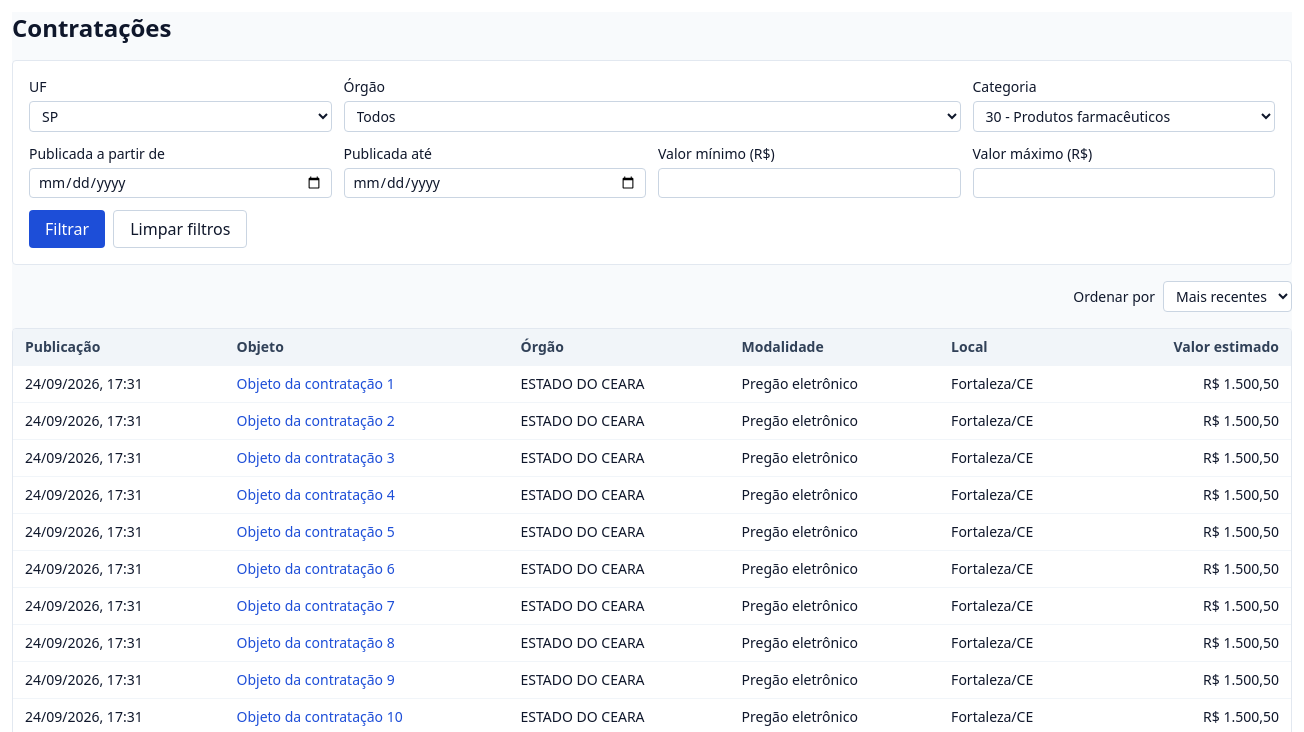
Test case: ContratacoesView — filtros alteram a requisição › limpar filtros volta à requisição sem filtros
Click the button "Limpar filtros" at coordinates (180, 229), box [113,210,247,248]
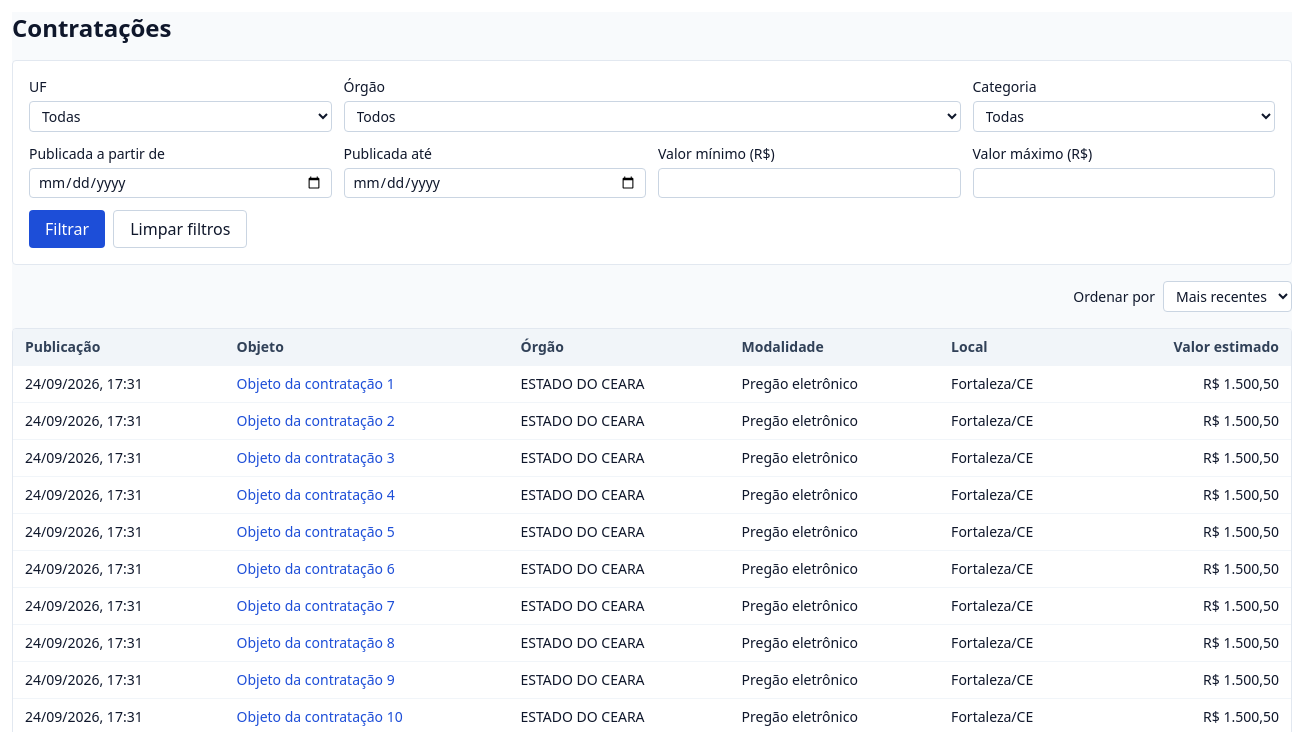
Now the dropdown labelled "UF" shows "Todas", box [29,101,332,132]
